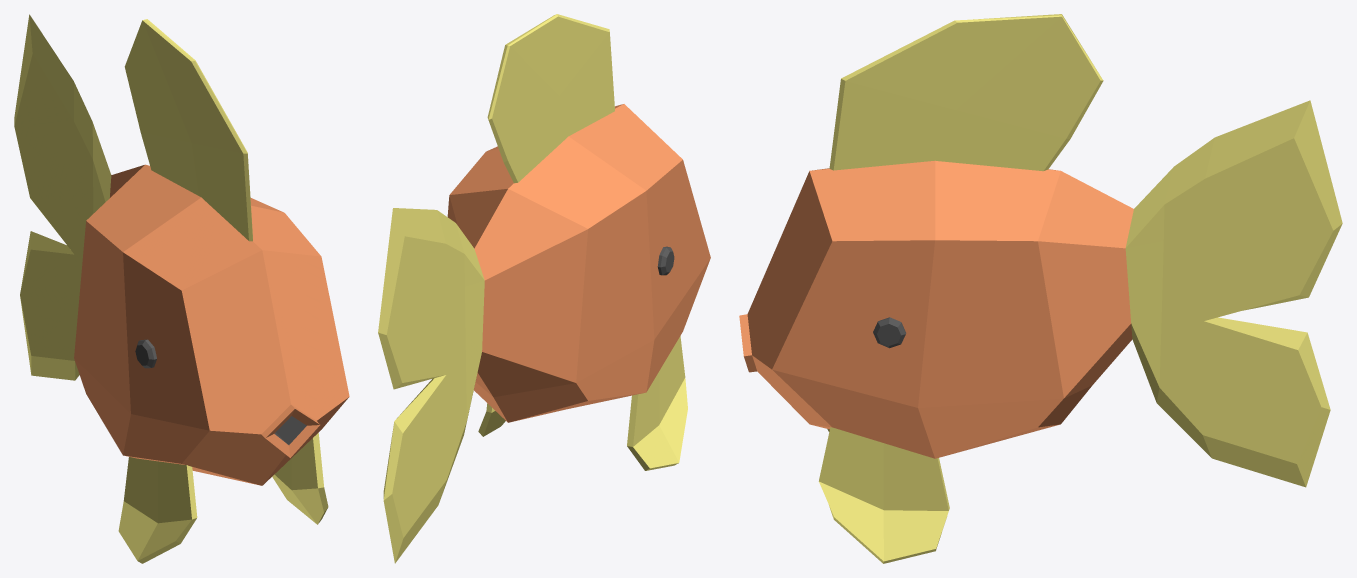
File: Goldfish_01.gltf
3 views of the same model, side by side, from view 1: azimuth 30°, elevation 25°; view 2: azimuth 150°, elevation 25°; view 3: azimuth 270°, elevation 25° (orthographic). The views are drawn at different scales.
Parts seen in each view (by area): view 1: node-0; view 2: node-0; view 3: node-0.
Part boxes in pixels (<box>): node-0: <box>14,14,349,563</box>; node-0: <box>378,14,710,563</box>; node-0: <box>739,14,1342,563</box>.
Size of the model in its own units: 4.73 by 11.42 by 12.45.
